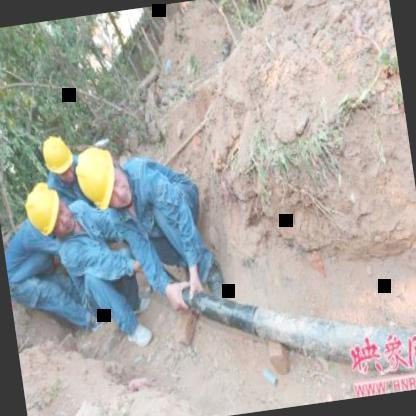helmet: (69, 139, 131, 216), (19, 178, 74, 244), (38, 130, 78, 184)
